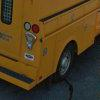Bus: (1, 1, 97, 87)
